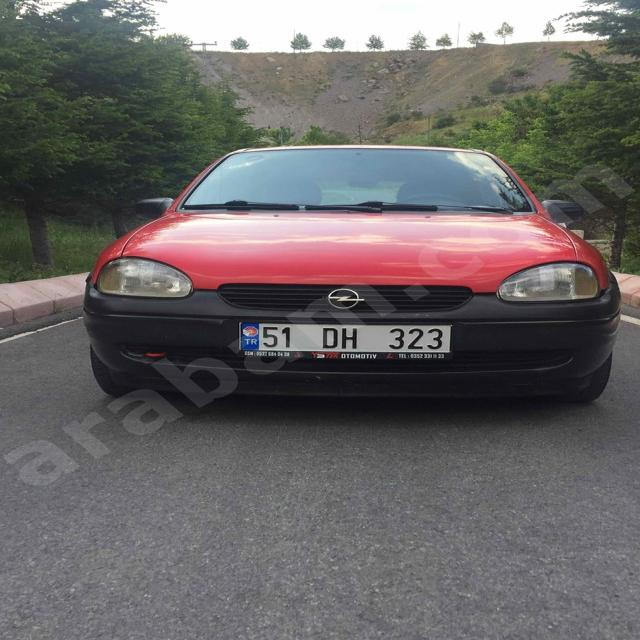license_plate: (237, 322, 452, 353)
